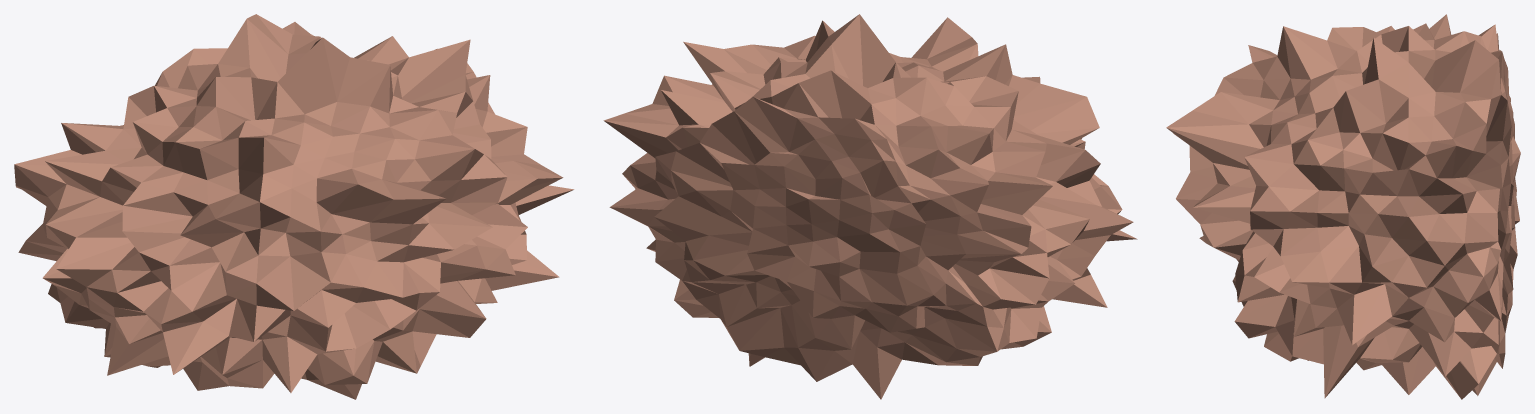
Rendered from Akariz_Rock_Red_Canyon_Rock.glb.
3 renders of one model, left to right at view 1: azimuth 30°, elevation 25°; view 2: azimuth 150°, elevation 25°; view 3: azimuth 270°, elevation 25°, orthographic. The views are drawn at different scales.
Visible parts, largest first — view 1: Akariz_Rock_Red_Canyon_Rock; view 2: Akariz_Rock_Red_Canyon_Rock; view 3: Akariz_Rock_Red_Canyon_Rock.
Boxes of the visible parts, bbox=[...] form: Akariz_Rock_Red_Canyon_Rock: bbox=[14, 14, 574, 399]; Akariz_Rock_Red_Canyon_Rock: bbox=[603, 14, 1137, 399]; Akariz_Rock_Red_Canyon_Rock: bbox=[1166, 14, 1520, 399].
Size of the model in its own units: 3.21 by 2.04 by 1.98.
